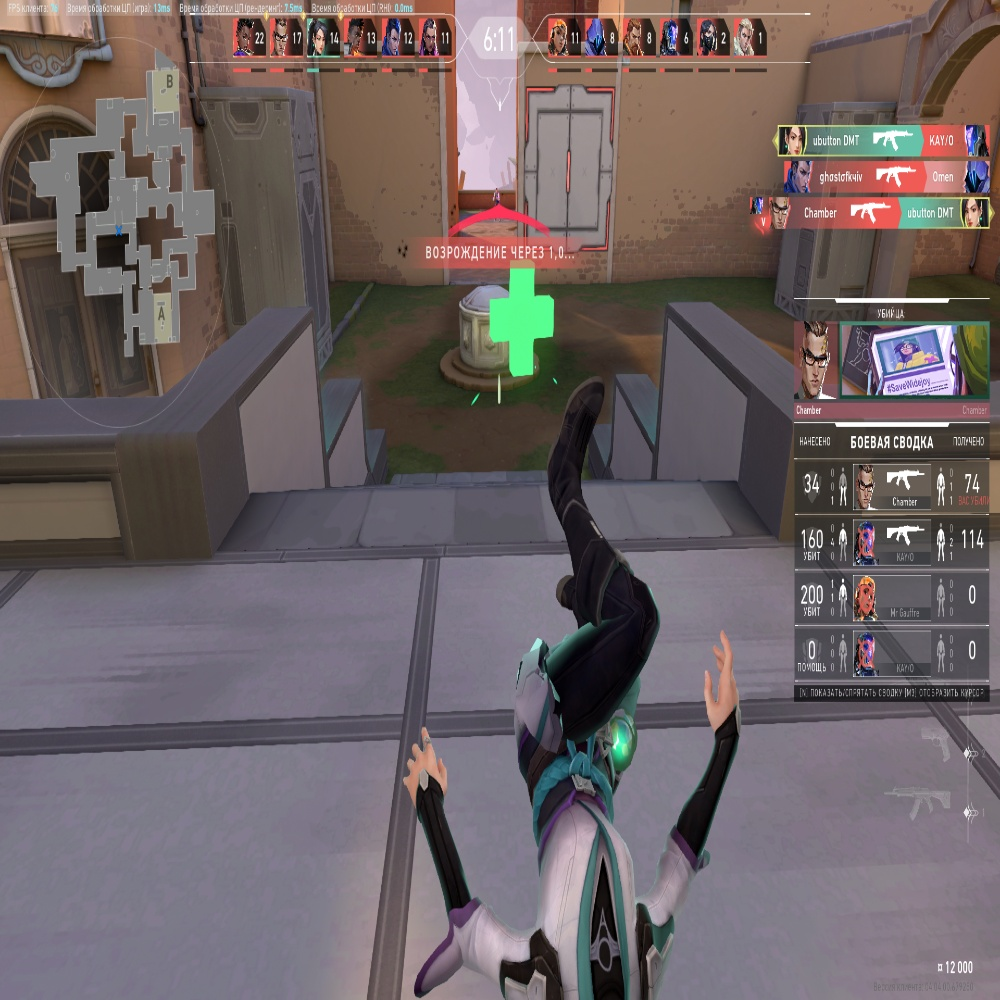body: (494, 194, 500, 204)
head: (495, 188, 498, 193)
